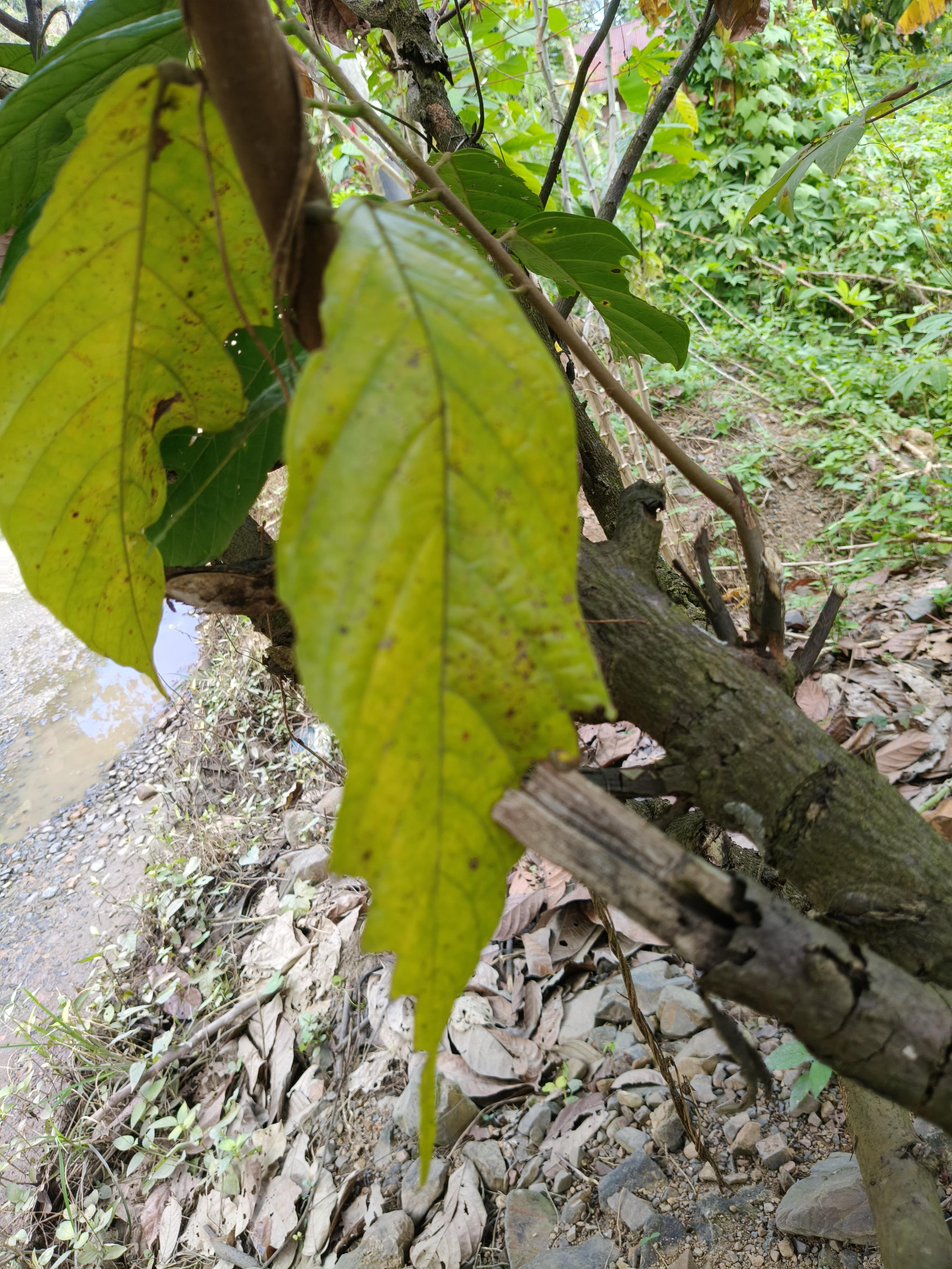deficienciia_fosforo: (278, 200, 608, 1179)
